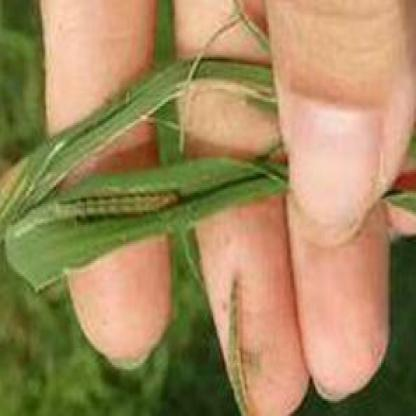leaf-folder: (212, 261, 281, 416), (50, 170, 191, 238)
